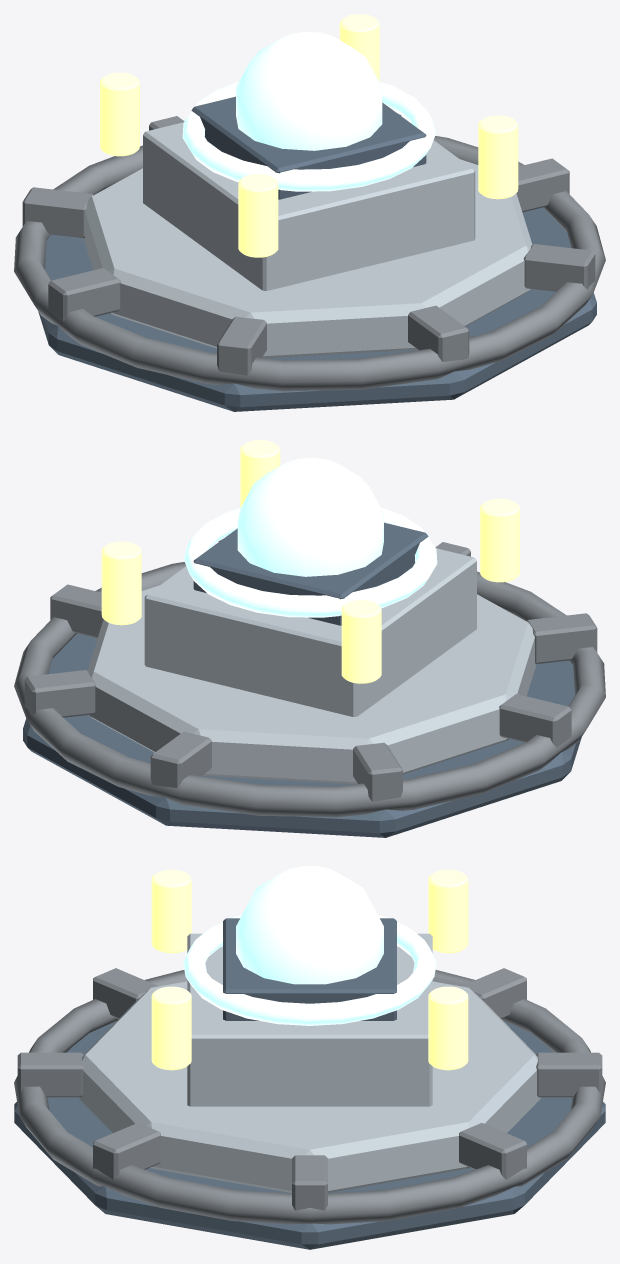
File: core.glb
3 views of the same model, one above another, from view 1: azimuth 30°, elevation 25°; view 2: azimuth 150°, elevation 25°; view 3: azimuth 270°, elevation 25° (orthographic).
Parts seen in each view (by area): view 1: Cylinder.001, Cube.008, Torus, Cylinder, Sphere, Torus.001, Cube.009, Cylinder.002, Cylinder.004, Cylinder.003, Cube.004, Cube.007 (+5 smaller); view 2: Cylinder.001, Cube.008, Torus, Cylinder, Sphere, Torus.001, Cube.009, Cylinder.003, Cylinder.005, Cylinder.002, Cube.004, Cube.001 (+5 smaller); view 3: Cylinder.001, Torus, Cube.008, Cylinder, Sphere, Torus.001, Cube.009, Cylinder.004, Cylinder.005, Cylinder.002, Cylinder.003, Cube.002 (+6 smaller).
Boxes of the visible parts, x1,y1,x2,y2 form: Cylinder.001: (83, 159, 532, 358); Cube.008: (143, 122, 475, 290); Torus: (14, 136, 605, 391); Cylinder: (38, 207, 596, 411); Sphere: (236, 31, 382, 150); Torus.001: (182, 81, 436, 191); Cube.009: (191, 96, 426, 199); Cylinder.002: (238, 174, 278, 257); Cylinder.004: (478, 115, 518, 199); Cylinder.003: (100, 72, 139, 156); Cube.004: (48, 268, 120, 321); Cube.007: (523, 244, 595, 291); Cylinder.001: (87, 585, 536, 784); Cube.008: (144, 548, 476, 716); Torus: (14, 562, 605, 817); Cylinder: (23, 633, 581, 837); Sphere: (237, 457, 383, 576); Torus.001: (183, 507, 437, 617); Cube.009: (193, 522, 428, 625); Cylinder.003: (341, 600, 381, 683); Cylinder.005: (101, 541, 141, 625); Cylinder.002: (480, 498, 519, 582); Cube.004: (499, 694, 571, 747); Cube.001: (24, 670, 96, 717); Cylinder.001: (79, 981, 540, 1192); Torus: (14, 970, 605, 1224); Cube.008: (187, 933, 432, 1106); Cylinder: (14, 1021, 605, 1249); Sphere: (236, 866, 383, 984); Torus.001: (183, 915, 436, 1025); Cube.009: (223, 918, 396, 1020); Cylinder.004: (151, 986, 191, 1070); Cylinder.005: (428, 986, 468, 1070); Cylinder.002: (151, 869, 191, 953); Cylinder.003: (428, 869, 468, 953); Cube.002: (536, 1052, 602, 1097).
Bounding box in the file's own units: 2.65 × 1.26 × 2.65.
